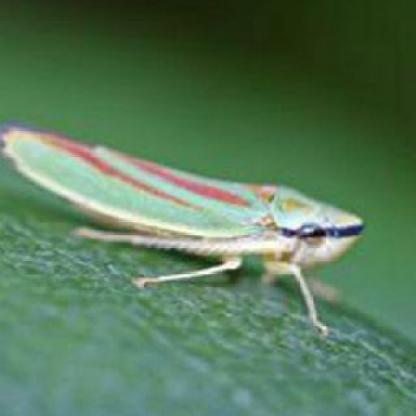green-leafhopper: (0, 130, 344, 290)
